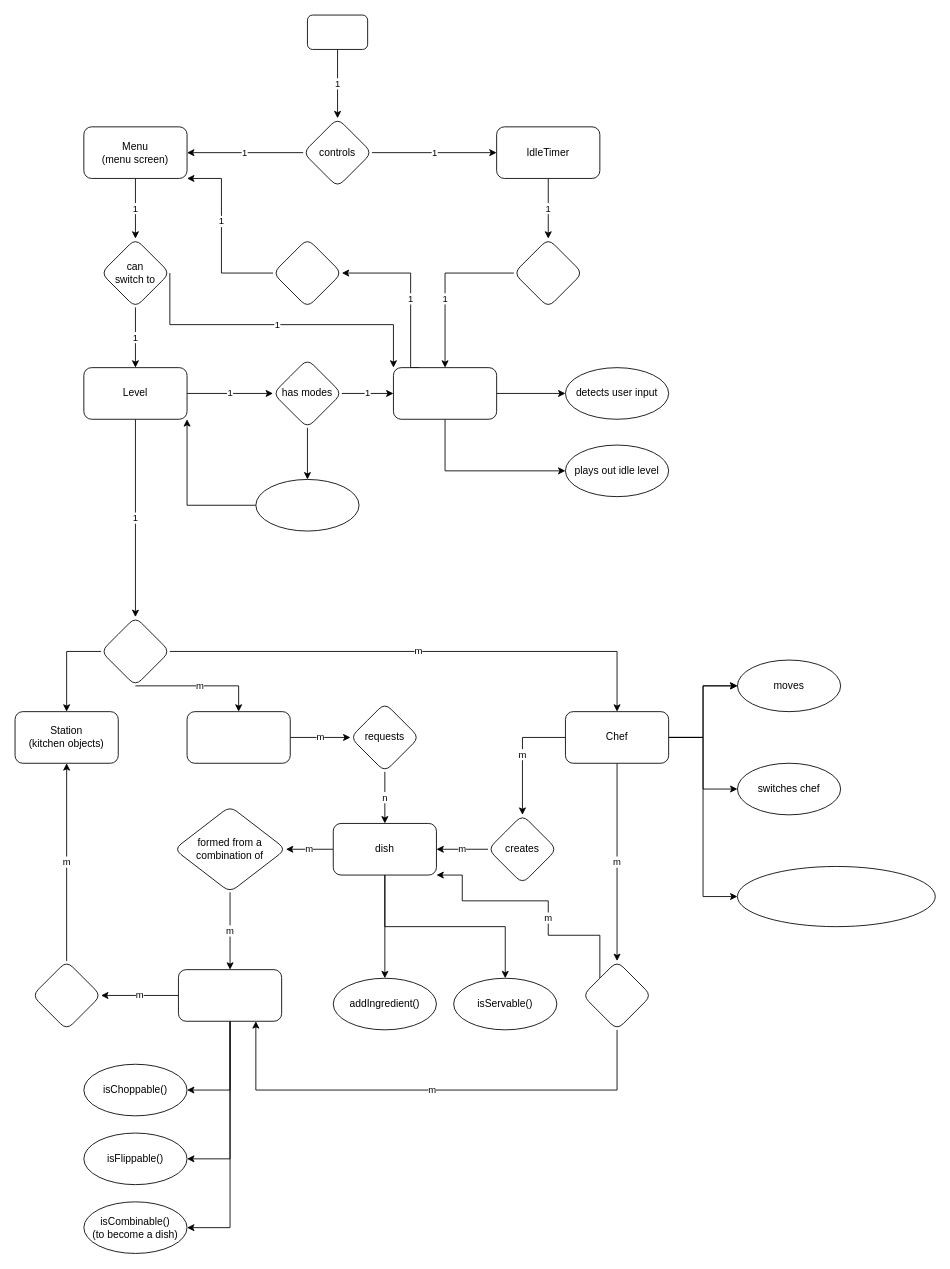
Some shapes in this 950 by 1269 pixel diagram are drawn without their labels. The shapes that lost their labels are listed below. From the top down, each one's box as (x1, y1, x2, y2) in pixels, then its label:
(307, 14, 368, 49): Controller
(272, 238, 342, 307): switches screen to
(513, 238, 583, 307): switches mode to
(393, 367, 497, 419): IdleLevel
(255, 479, 359, 531): normal level
(100, 616, 170, 686): spawns
(186, 711, 290, 763): Customer
(737, 866, 935, 927): is useable() (users cannot use the chefs when the level is in idle mode)
(31, 960, 101, 1030): at
(178, 969, 282, 1021): Ingredients
(582, 960, 651, 1030): interacts with
